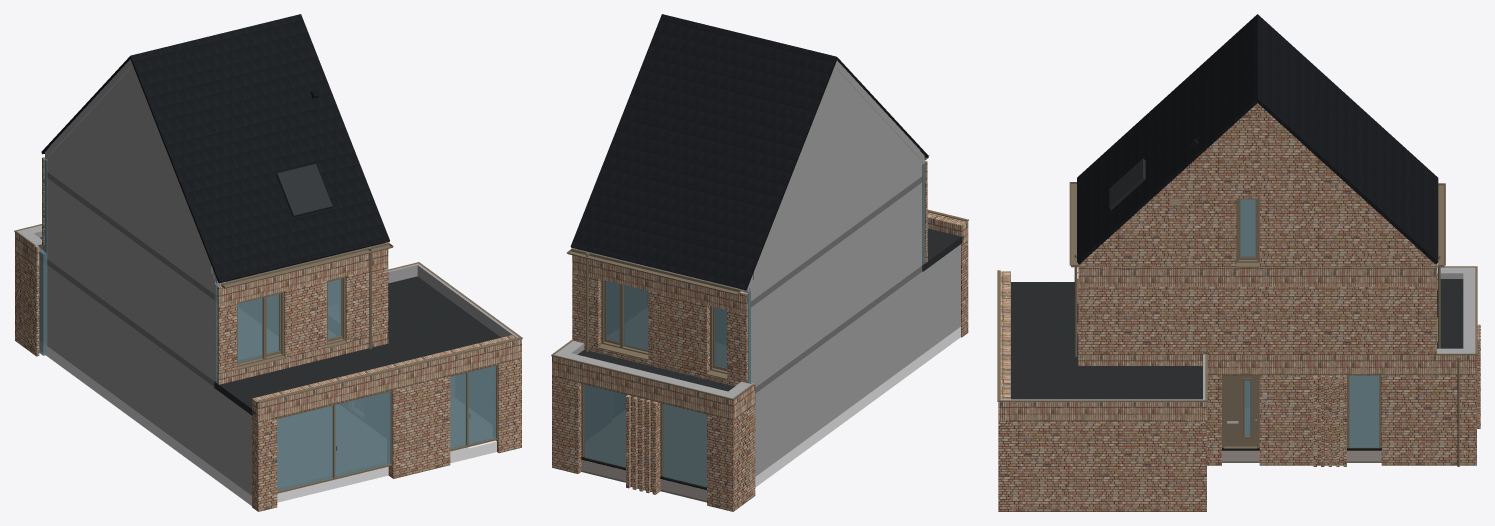
The model's file is woning97.glb.
3 views of the same model, side by side, from view 1: azimuth 30°, elevation 25°; view 2: azimuth 150°, elevation 25°; view 3: azimuth 270°, elevation 25° (orthographic). The views are drawn at different scales.
Visible parts, largest first — view 1: Basic Wall:NLRS_22.2_WA_kalkzandsteen dragend_d=120mm_gen_mi (×4), Basic Roof:NLRS_47_RO_dakpannen Huguenot HP10_gen_MIX:818372, Basic Wall:NLRS_21.1_WA_metselwerk baksteen_Zagora/Ogenagaat (×3), Basic Roof:NLRS_27_RO_dak berging_d=100_gen_mix:8194706, Optietekening 9648 · brede schuifpui 101A rollaag, Optietekening 9648 · brede schuifpui 101A glas rechts, Optietekening 9648 · brede schuifpui 101A glas links, Basic Roof:NLRS_27_RO_dak berging_d=100_gen_mix:8202046, Basic Wall:NLRS_21.1_WA_metselwerk baksteen band_Zagora/Ogen, Optietekening 9648 · tuindeur extra kamer 102 linkerdam, Optietekening 9648 · brede schuifpui 101A rechterdam, Optietekening 9648 · tuindeur extra kamer 102 rollaag (+17 smaller); view 2: Basic Wall:NLRS_22.2_WA_kalkzandsteen dragend_d=120mm_gen_mi (×4), Basic Roof:NLRS_47_RO_dakpannen Huguenot HP10_gen_MIX:818372, Basic Wall:NLRS_21.1_WA_metselwerk baksteen_Zagora/Ogenagaat (×6), Basic Wall:NLRS_21.1_WA_metselwerk baksteen band_Zagora/Ogen (×2), NLRS_31_WIN_UN_AV_SH_VUL_vast glas_BI_gen_mix:std:5517287, NLRS_31_WIN_UN_AV_SH_VUL_vast glas_BI_gen_mix:std:5517262, Floor:NLRS_23_Fl_ribcasettevloer_d=350_gen_mix:5516407, Basic Roof:NLRS_27_RO_prefab dakplaat geisoleerd_d=192mm_gen, NLRS_31_WIN_UN_AV_SH_VUL_vast glas_BI_gen_mix:std:5517748, NLRS_47_GM_daktrim:plat dak:5612020 (×2), NLRS_27_GM_goot_mix:27_GM_goot_mix:8183803, Floor:NLRS_23_FL_kanaalplaat_d=200mm_gen_mix:5516371 (+11 smaller); view 3: Basic Wall:NLRS_21.1_WA_metselwerk baksteen_Zagora/Ogenagaat (×4), Basic Roof:NLRS_47_RO_dakpannen Huguenot HP10_gen_MIX:818372, Basic Wall:NLRS_21.1_WA_metselwerk baksteen band_Zagora/Ogen (×4), Basic Roof:NLRS_27_RO_dak berging_d=100_gen_mix:8194706, Basic Roof:NLRS_27_RO_dak berging_d=100_gen_mix:8202046, NLRS_31_WIN_UN_AV_SH_VUL_vast glas_BI_gen_mix:std:5517544, NLRS_31_DO_UN_AV_SH_VUL_voordeur_gen_mix:9814N:5517456, Basic Roof:NLRS_47_RO_dakpannen Huguenot HP10 gevelpan_gen_M, Basic Roof:NLRS_27_RO_afschotisolatie_d=200mm_gen_mix:561202, NLRS_47_GM_daktrim:plat dak:5612020, NLRS_31_WIN_UN_AV_SH_VUL_vast glas_BI_gen_mix:std:5517785, NLRS_57_Robé InterTop NAU_mix:dakraam gen bxh 780x1180:81837 (+5 smaller).
Part boxes in pixels (x1=…): Basic Wall:NLRS_22.2_WA_kalkzandsteen dragend_d=120mm_gen_mi (×4): x1=39, y1=68, x2=251, y2=495; Basic Roof:NLRS_47_RO_dakpannen Huguenot HP10_gen_MIX:818372: x1=41, y1=14, x2=389, y2=283; Basic Wall:NLRS_21.1_WA_metselwerk baksteen_Zagora/Ogenagaat (×3): x1=16, y1=253, x2=385, y2=384; Basic Roof:NLRS_27_RO_dak berging_d=100_gen_mix:8194706: x1=378, y1=276, x2=500, y2=363; Optietekening 9648 · brede schuifpui 101A rollaag: x1=252, y1=359, x2=419, y2=422; Optietekening 9648 · brede schuifpui 101A glas rechts: x1=335, y1=391, x2=390, y2=477; Optietekening 9648 · brede schuifpui 101A glas links: x1=277, y1=405, x2=332, y2=491; Basic Roof:NLRS_27_RO_dak berging_d=100_gen_mix:8202046: x1=214, y1=346, x2=395, y2=416; Basic Wall:NLRS_21.1_WA_metselwerk baksteen band_Zagora/Ogen: x1=217, y1=249, x2=385, y2=306; Optietekening 9648 · tuindeur extra kamer 102 linkerdam: x1=420, y1=376, x2=450, y2=472; Optietekening 9648 · brede schuifpui 101A rechterdam: x1=388, y1=383, x2=419, y2=478; Optietekening 9648 · tuindeur extra kamer 102 rollaag: x1=414, y1=335, x2=521, y2=383; Basic Wall:NLRS_22.2_WA_kalkzandsteen dragend_d=120mm_gen_mi (×4): x1=749, y1=70, x2=960, y2=476; Basic Roof:NLRS_47_RO_dakpannen Huguenot HP10_gen_MIX:818372: x1=571, y1=14, x2=928, y2=290; Basic Wall:NLRS_21.1_WA_metselwerk baksteen_Zagora/Ogenagaat (×6): x1=555, y1=273, x2=755, y2=511; Basic Wall:NLRS_21.1_WA_metselwerk baksteen band_Zagora/Ogen (×2): x1=555, y1=256, x2=747, y2=420; NLRS_31_WIN_UN_AV_SH_VUL_vast glas_BI_gen_mix:std:5517287: x1=663, y1=403, x2=706, y2=487; NLRS_31_WIN_UN_AV_SH_VUL_vast glas_BI_gen_mix:std:5517262: x1=584, y1=384, x2=627, y2=467; Floor:NLRS_23_Fl_ribcasettevloer_d=350_gen_mix:5516407: x1=755, y1=355, x2=922, y2=487; Basic Roof:NLRS_27_RO_prefab dakplaat geisoleerd_d=192mm_gen: x1=743, y1=60, x2=924, y2=292; NLRS_31_WIN_UN_AV_SH_VUL_vast glas_BI_gen_mix:std:5517748: x1=623, y1=285, x2=648, y2=351; NLRS_47_GM_daktrim:plat dak:5612020 (×2): x1=551, y1=353, x2=733, y2=400; NLRS_27_GM_goot_mix:27_GM_goot_mix:8183803: x1=566, y1=248, x2=740, y2=295; Floor:NLRS_23_FL_kanaalplaat_d=200mm_gen_mix:5516371: x1=751, y1=176, x2=922, y2=307; Basic Wall:NLRS_21.1_WA_metselwerk baksteen_Zagora/Ogenagaat (×4): x1=998, y1=103, x2=1476, y2=511; Basic Roof:NLRS_47_RO_dakpannen Huguenot HP10_gen_MIX:818372: x1=1077, y1=14, x2=1438, y2=261; Basic Wall:NLRS_21.1_WA_metselwerk baksteen band_Zagora/Ogen (×4): x1=998, y1=267, x2=1476, y2=421; Basic Roof:NLRS_27_RO_dak berging_d=100_gen_mix:8194706: x1=1011, y1=362, x2=1202, y2=399; Basic Roof:NLRS_27_RO_dak berging_d=100_gen_mix:8202046: x1=1011, y1=282, x2=1078, y2=361; NLRS_31_WIN_UN_AV_SH_VUL_vast glas_BI_gen_mix:std:5517544: x1=1349, y1=375, x2=1379, y2=447; NLRS_31_DO_UN_AV_SH_VUL_voordeur_gen_mix:9814N:5517456: x1=1224, y1=375, x2=1257, y2=448; Basic Roof:NLRS_47_RO_dakpannen Huguenot HP10 gevelpan_gen_M: x1=1077, y1=98, x2=1437, y2=264; Basic Roof:NLRS_27_RO_afschotisolatie_d=200mm_gen_mix:561202: x1=1437, y1=279, x2=1463, y2=348; NLRS_47_GM_daktrim:plat dak:5612020: x1=1463, y1=268, x2=1475, y2=353; NLRS_31_WIN_UN_AV_SH_VUL_vast glas_BI_gen_mix:std:5517785: x1=1240, y1=199, x2=1255, y2=256; NLRS_57_Robé InterTop NAU_mix:dakraam gen bxh 780x1180:81837: x1=1109, y1=158, x2=1145, y2=209.
Size of the model in its own units: 9.54 by 12.17 by 14.51.
48 materials, 4 textured.
